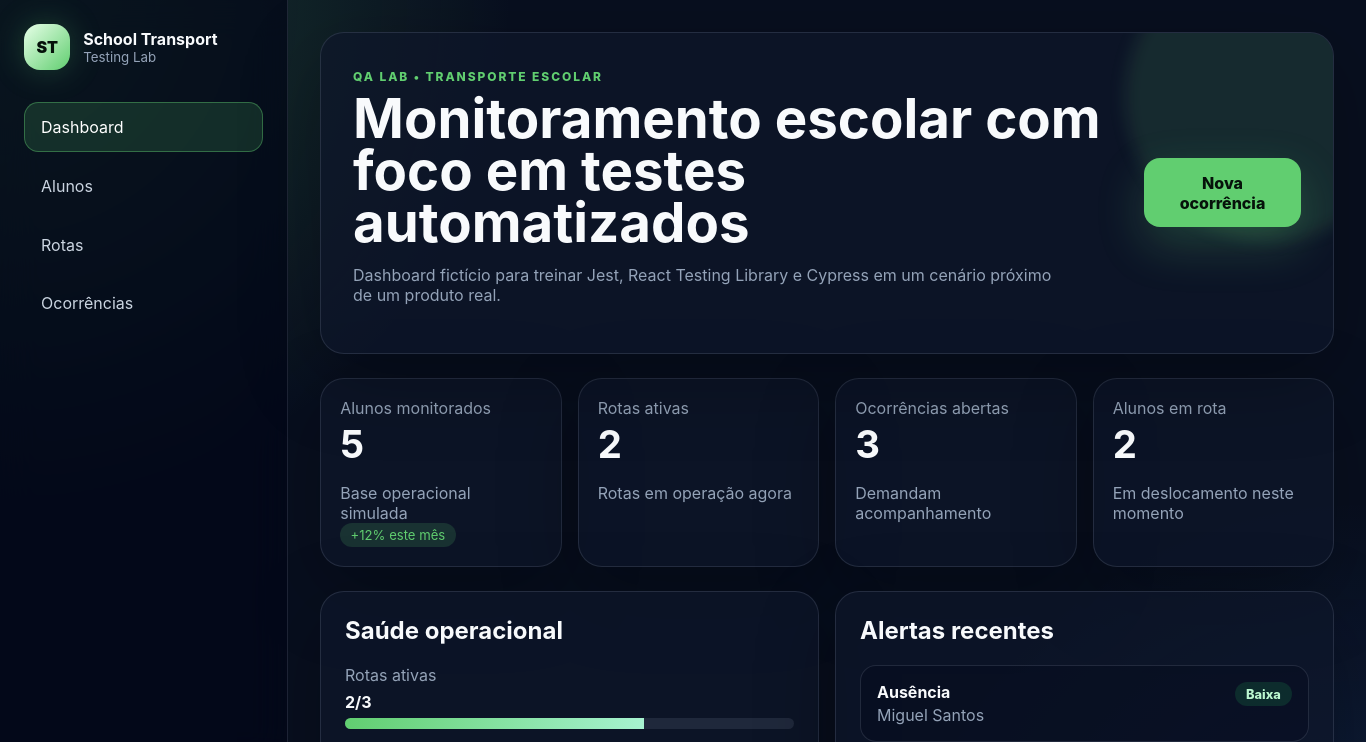
Test: Occurrences › shows validation messages when submitting empty form
The image size is (1366, 742).
Click the button with test id "nav-occurrences".
click(144, 304)  # box [24,279,263,328]
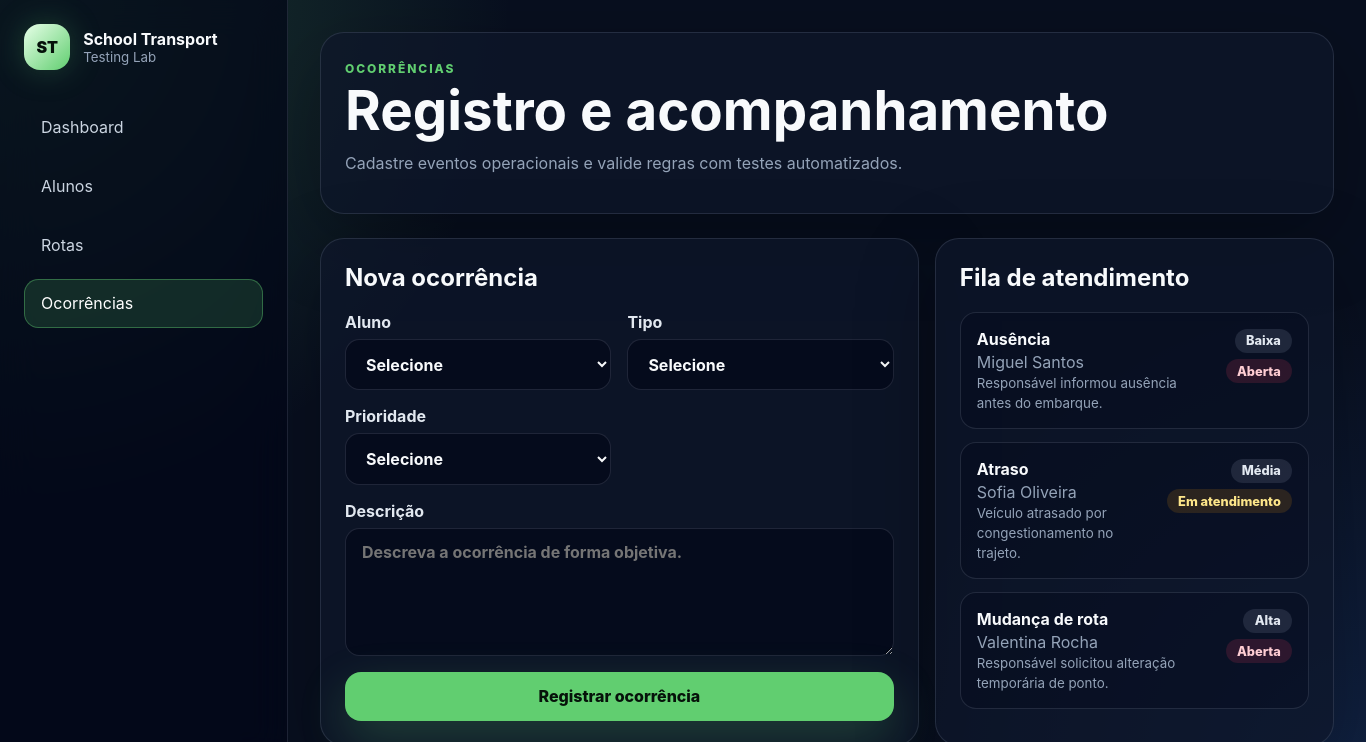
Click the button with test id "save-occurrence".
click(620, 697)  # box [345,672,894,721]
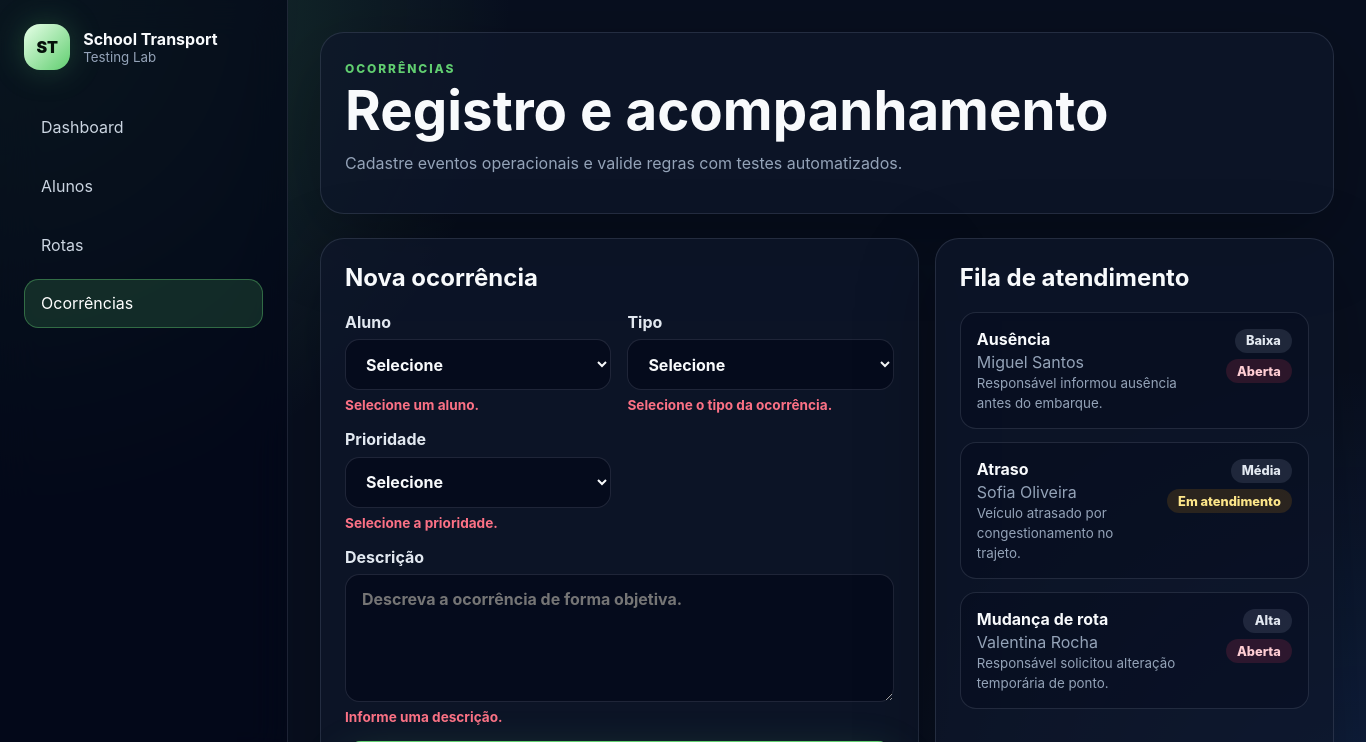
Expected: the text "Selecione um aluno." is shown, [345,312,611,414]
Expected: the text "Selecione o tipo da ocorrência." is shown, [627,312,893,414]
Expected: the text "Informe uma descrição." is shown, [345,547,894,725]
